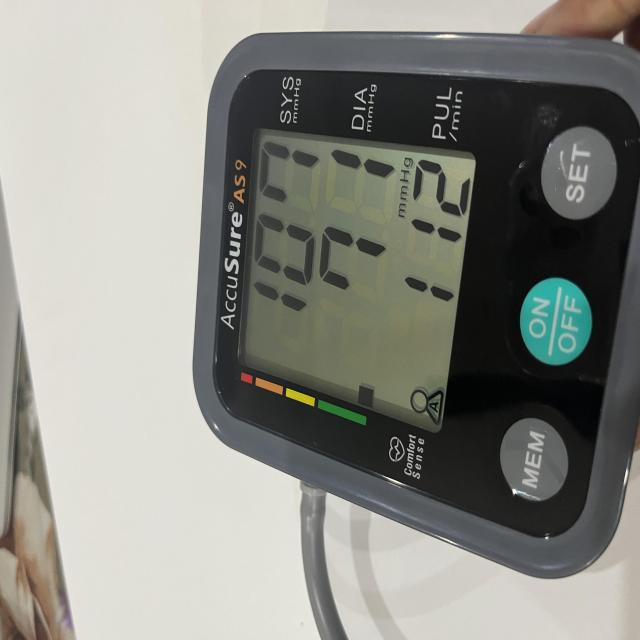bp: (192, 32, 640, 582)
